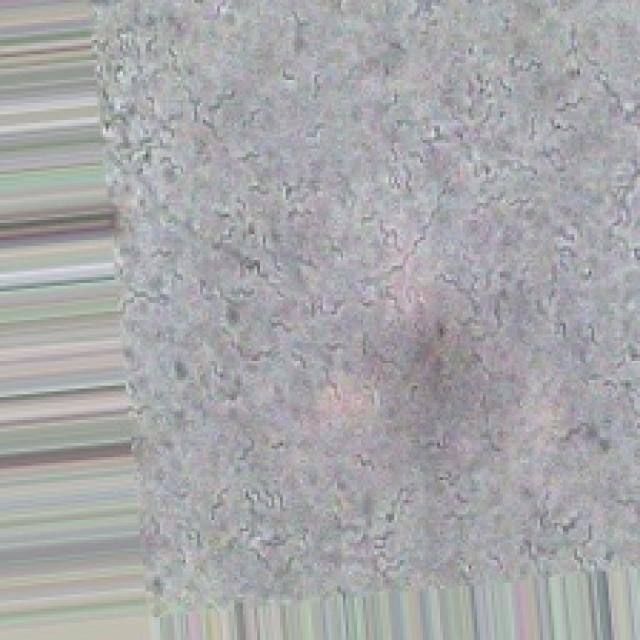Rod_bacteria: (86, 0, 637, 637)
